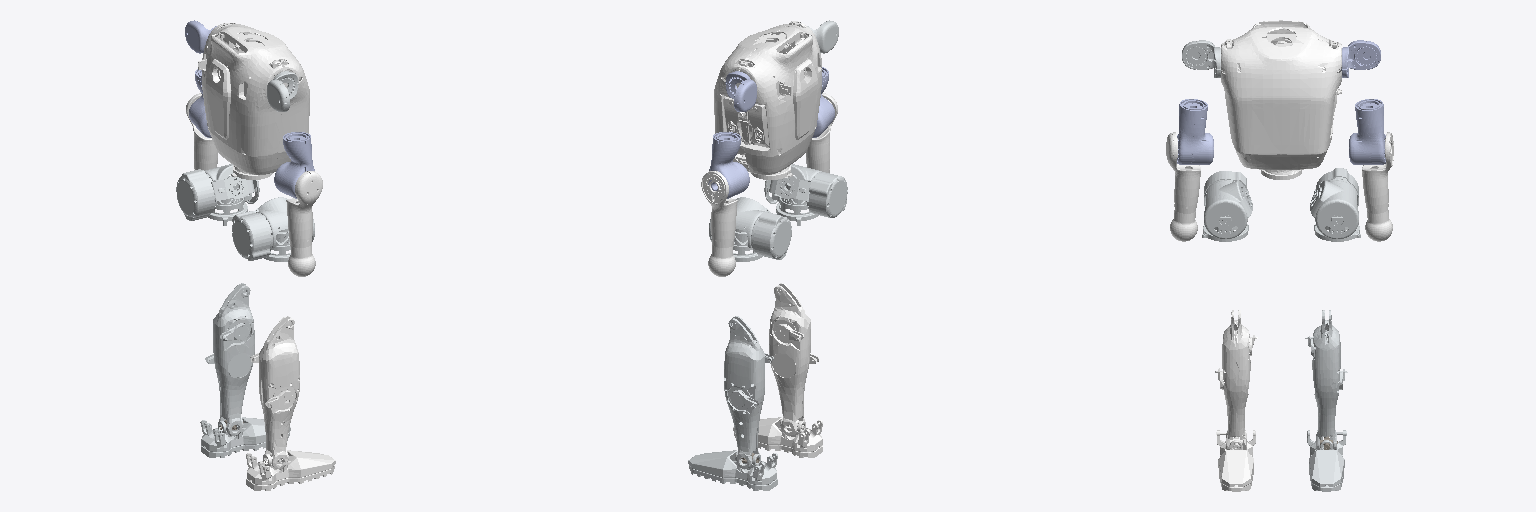
--- Render facts (derived) ---
Views: 3 orthographic renders of the robot side by side, from view 1: azimuth 30°, elevation 25°; view 2: azimuth 150°, elevation 25°; view 3: azimuth 270°, elevation 25°.
Model miniloong_v3 with 23 links and 22 joints (12 revolute, 10 fixed), rooted at base_link, posed all joints at 0.
Links seen in each view (by area): view 1: link_waist_yaw, link_left_knee, link_right_knee, link_left_hip_pitch, link_right_elbow, link_right_hip_pitch, link_right_ankle_roll, link_left_ankle_roll, link_right_shoulder_yaw, link_right_shoulder_pitch, link_left_elbow, link_left_hip_roll (+2 smaller); view 2: link_waist_yaw, link_right_knee, link_left_knee, link_right_hip_pitch, link_left_elbow, link_left_hip_pitch, link_left_ankle_roll, link_right_ankle_roll, link_left_shoulder_yaw, link_left_shoulder_pitch, link_right_elbow, link_right_hip_roll (+2 smaller); view 3: link_waist_yaw, link_right_knee, link_left_knee, link_left_hip_pitch, link_right_hip_pitch, link_right_elbow, link_left_elbow, link_right_shoulder_yaw, link_left_shoulder_yaw, link_left_ankle_roll, link_right_ankle_roll, link_left_shoulder_pitch (+1 smaller).
Boxes of the visible links, box(x1,y1,x2,y2) form: link_waist_yaw: box(198, 23, 309, 179); link_left_knee: box(200, 283, 254, 435); link_right_knee: box(250, 316, 299, 470); link_left_hip_pitch: box(176, 164, 259, 220); link_right_elbow: box(286, 171, 322, 276); link_right_hip_pitch: box(232, 197, 314, 260); link_right_ankle_roll: box(246, 450, 335, 490); link_left_ankle_roll: box(201, 417, 290, 457); link_right_shoulder_yaw: box(274, 132, 314, 198); link_right_shoulder_pitch: box(267, 71, 298, 111); link_left_elbow: box(186, 93, 217, 170); link_left_hip_roll: box(208, 176, 251, 225); link_waist_yaw: box(714, 21, 821, 179); link_right_knee: box(769, 283, 819, 436); link_left_knee: box(724, 316, 773, 471); link_right_hip_pitch: box(764, 164, 847, 217); link_left_elbow: box(701, 171, 737, 276); link_left_hip_pitch: box(709, 197, 791, 259); link_left_ankle_roll: box(688, 450, 777, 490); link_right_ankle_roll: box(733, 417, 822, 457); link_left_shoulder_yaw: box(708, 132, 749, 198); link_left_shoulder_pitch: box(725, 71, 756, 111); link_right_elbow: box(806, 93, 837, 172); link_right_hip_roll: box(772, 176, 818, 225); link_waist_yaw: box(1221, 20, 1341, 179); link_right_knee: box(1215, 310, 1257, 449); link_left_knee: box(1305, 310, 1347, 449); link_left_hip_pitch: box(1310, 168, 1358, 238); link_right_hip_pitch: box(1204, 171, 1252, 238); link_right_elbow: box(1166, 132, 1200, 241); link_left_elbow: box(1362, 132, 1393, 241); link_right_shoulder_yaw: box(1177, 99, 1213, 164); link_left_shoulder_yaw: box(1349, 99, 1385, 164); link_left_ankle_roll: box(1307, 430, 1345, 491); link_right_ankle_roll: box(1217, 430, 1255, 491); link_left_shoulder_pitch: box(1341, 40, 1380, 77).
Size in the robot's own frame: 0.2815 by 0.5742 by 1.2 metres.
17 mesh visuals loaded from 23 distinct referenced files (17 binary STL); not drawn: 6 (reference not matched to a file when rendering).

The robot description file, URDF, robot "miniloong_v3":
<?xml version="1.0" encoding="utf-8"?>
<!--
This URDF was automatically created by SolidWorks to URDF Exporter! Originally created by Stephen Brawner ([email redacted])
Commit Version: 1.6.0-4-g7f85cfe  Build Version: 1.6.7995.38578
For more information, please see http://wiki.ros.org/sw_urdf_exporter
-->
<robot name="miniloong_v3">
	<mujoco>
		<compiler meshdir="../meshes/" balanceinertia="true" discardvisual="false" />
	</mujoco>
	<link name="base_link">
		<inertial>
			<origin xyz="-3.437E-05 -2.2401E-06 -0.003897 " rpy="0 0 0" />
			<mass value="3.7352" />
			<inertia ixx="0.01328" ixy="0" ixz="0.000062" iyy="0.00566" iyz="-0.000001" izz="0.01284" />
		</inertial>
		<visual>
			<origin xyz="0 0 0" rpy="0 0 0" />
			<geometry>
				<mesh filename="../meshes/base_link.STL" />
			</geometry>
			<material name="">
				<color rgba="0.89804 0.91765 0.92941 1" />
			</material>
		</visual>
		<collision>
			<origin xyz="0 0 0" rpy="0 0 0" />
			<geometry>
				<mesh filename="../meshes/base_link.STL" />
			</geometry>
		</collision>
	</link>
	<link name="link_left_hip_pitch">
		<inertial>
			<origin xyz="-0.063459 0.05644 0.0018258" rpy="0 0 0" />
			<mass value="1.2698" />
			<inertia ixx="0.00247" ixy="0.0" ixz="-0.0" iyy="0.00406" iyz="-0.0" izz="0.004332" />
		</inertial>
		<visual>
			<origin xyz="0 0 0" rpy="0 0 0" />
			<geometry>
				<mesh filename="../meshes/link_left_hip_pitch.STL" />
			</geometry>
			<material name="">
				<color rgba="0.89804 0.91765 0.92941 1" />
			</material>
		</visual>
		<!--
		<collision>
		<origin
		xyz="0 0 0"
		rpy="0 0 0" />
		<geometry>
		<mesh
		filename="../meshes/link_left_hip_pitch.STL" />
		</geometry>
		</collision>
		-->
	</link>
	<joint name="joint_left_hip_pitch" type="revolute">
		<origin xyz="0 0.082786 -0.019652" rpy="-0.43633 0 0" />
		<parent link="base_link" />
		<child link="link_left_hip_pitch" />
		<axis xyz="0 -1 0" />
		<limit lower="-0.8" upper="1.57" effort="150" velocity="14" />
	</joint>
	<link name="link_left_hip_roll">
		<inertial>
			<origin xyz="2.5207E-05 -7.5884E-05 -0.019644" rpy="0 0 0" />
			<mass value="1.006" />
			<inertia ixx="0.00109" ixy="-0.00001" ixz="0.000047" iyy="0.00157" iyz="-0.000006" izz="0.00171" />
		</inertial>
		<visual>
			<origin xyz="0 0 0" rpy="0 0 0" />
			<geometry>
				<mesh filename="../meshes/link_left_hip_roll.STL" />
			</geometry>
			<material name="">
				<color rgba="0.89804 0.91765 0.92941 1" />
			</material>
		</visual>
		<!--
		<collision>
		<origin
		xyz="0 0 0"
		rpy="0 0 0" />
		<geometry>
		<mesh
		filename="../meshes/link_left_hip_roll.STL" />
		</geometry>
		</collision>
		-->
	</link>
	<joint name="joint_left_hip_roll" type="revolute">
		<origin xyz="0 0.0639999999999994 0" rpy="0.436332312998587 0 0" />
		<parent link="link_left_hip_pitch" />
		<child link="link_left_hip_roll" />
		<axis xyz="1 0 0" />
		<limit lower="-0.4" upper="1" effort="90" velocity="14" />
	</joint>
	<link name="link_left_hip_yaw">
		<inertial>
			<origin xyz="0.0035034 0.0045942 -0.096361" rpy="0 0 0" />
			<mass value="3.7201" />
			<inertia ixx="0.01809" ixy="0.000339" ixz="0.00079" iyy="0.01648" iyz="-0.00141" izz="0.00797" />
		</inertial>
		<visual>
			<origin xyz="0 0 0" rpy="0 0 0" />
			<geometry>
				<mesh filename="../meshes/link_left_hip_yaw.STL" />
			</geometry>
			<material name="">
				<color rgba="0.89804 0.91765 0.92941 1" />
			</material>
		</visual>
		<!--
		<collision>
		<origin
		xyz="0 0 0"
		rpy="0 0 0" />
		<geometry>
		<mesh
		filename="../meshes/link_left_hip_yaw.STL" />
		</geometry>
		</collision>
		-->
	</link>
	<joint name="joint_left_hip_yaw" type="revolute">
		<origin xyz="0 0 -0.0660749309390388" rpy="0 0 0" />
		<parent link="link_left_hip_roll" />
		<child link="link_left_hip_yaw" />
		<axis xyz="0 0 1" />
		<limit lower="-1.57" upper="1.57" effort="60" velocity="14" />
	</joint>
	<link name="link_left_knee">
		<inertial>
			<origin xyz="0.0085121 0.00056149 -0.1332" rpy="0 0 0" />
			<mass value="2.3671" />
			<inertia ixx="0.01703" ixy="0.000034" ixz="-0.00066" iyy="0.01776" iyz="0.00045" izz="0.00258" />
		</inertial>
		<visual>
			<origin xyz="0 0 0" rpy="0 0 0" />
			<geometry>
				<mesh filename="../meshes/link_left_knee.STL" />
			</geometry>
			<material name="">
				<color rgba="0.89804 0.91765 0.92941 1" />
			</material>
		</visual>
		<collision>
			<origin xyz="0 0 -0.16" rpy="0 0 0" />
			<geometry>
				<cylinder length="0.16" radius="0.01" />
			</geometry>
		</collision>
		<!--
		<collision>
		<origin xyz="0 0 0" rpy="0 0 0" />
		<geometry>
		<mesh filename="../meshes/link_left_knee.STL" />
		</geometry>
		</collision>
		-->
	</link>
	<joint name="joint_left_knee" type="revolute">
		<origin xyz="0 -0.0268000000001518 -0.243925069060961" rpy="0 0 0" />
		<parent link="link_left_hip_yaw" />
		<child link="link_left_knee" />
		<axis xyz="0 1 0" />
		<limit lower="0" upper="1.57" effort="150" velocity="14" />
	</joint>
	<link name="link_left_ankle_pitch">
		<inertial>
			<origin xyz="0.00203587447051995 1.29063426612674E-15 4.35094322320806E-05" rpy="0 0 0" />
			<mass value="0.0977843344446362" />
			<inertia ixx="8.75851893038556E-06" ixy="5.91285137705479E-22" ixz="-4.06882528974468E-21" iyy="1.9407469675906E-05" iyz="2.40417361374459E-18" izz="2.51305174126902E-05" />
		</inertial>
		<visual>
			<origin xyz="0 0 0" rpy="0 0 0" />
			<geometry>
				<mesh filename="../meshes/link_left_ankle_pitch.STL" />
			</geometry>
			<material name="">
				<color rgba="0.647058823529412 0.619607843137255 0.588235294117647 1" />
			</material>
		</visual>
		<!--
		<collision>
		<origin xyz="0 0 0" rpy="0 0 0" />
		<geometry>
		<mesh filename="../meshes/link_left_ankle_pitch.STL" />
		</geometry>
		</collision>
		-->
	</link>
	<joint name="joint_left_ankle_pitch" type="revolute">
		<origin xyz="0 0 -0.340043509432232" rpy="0 0 0" />
		<parent link="link_left_knee" />
		<child link="link_left_ankle_pitch" />
		<axis xyz="0 -1 0" />
		<limit lower="-0.8" upper="0.8" effort="60" velocity="14" />
	</joint>
	<link name="link_left_ankle_roll">
		<inertial>
			<origin xyz="0.0271427859573022 2.90692022023031E-07 -0.0429985338136245" rpy="0 0 0" />
			<mass value="0.666889699700624" />
			<inertia ixx="0.000416460432173352" ixy="1.00005877275381E-08" ixz="0.000163030116358805" iyy="0.00296567474137203" iyz="8.89561374605871E-09" izz="0.00310782867605619" />
		</inertial>
		<visual>
			<origin xyz="0 0 0" rpy="0 0 0" />
			<geometry>
				<mesh filename="../meshes/link_left_ankle_yaw.STL" />
			</geometry>
			<material name="">
				<color rgba="0.898039215686275 0.917647058823529 0.929411764705882 1" />
			</material>
		</visual>
		<!--
		<collision>
		<origin xyz="0 0 0" rpy="0 0 0" />
		<geometry>
		<mesh filename="../meshes/link_left_ankle_yaw.STL" />
		</geometry>
		</collision>
		-->
		<collision>
			<origin rpy="0.00000000 1.5708 0.00000000" xyz="0.0485000 -0.04000000 -0.06300000" />
			<geometry>
				<cylinder radius="0.00500000" length="0.22500000" />
			</geometry>
		</collision>
		<collision>
			<origin rpy="0.00000000 1.5708 0.00000000" xyz="0.0485000 0.04000000 -0.06300000" />
			<geometry>
				<cylinder radius="0.00500000" length="0.22500000" />
			</geometry>
		</collision>
	</link>
	<joint name="joint_left_ankle_roll" type="revolute">
		<origin xyz="0 0 0" rpy="0 0 0" />
		<parent link="link_left_ankle_pitch" />
		<child link="link_left_ankle_roll" />
		<axis xyz="1 0 0" />
		<limit lower="-0.35" upper="0.35" effort="60" velocity="14" />
	</joint>
	<link name="link_right_hip_pitch">
		<!--
		<inertial>
		<origin xyz="-0.063459095964242 -0.0564455458564315 0.00195361727230395" rpy="0 0 0" />
		<mass value="1.2698" />
		<inertia ixx="0.00247" ixy="-0.00063" ixz="-1.6253E-05" iyy="0.00406" iyz="-2.8174E-05" izz="0.00433" />
		</inertial>
		-->
		<inertial>
			<origin xyz="-0.063459 -0.05644 0.0018258" rpy="0 0 0" />
			<mass value="1.2698" />
			<inertia ixx="0.00247" ixy="-0.0" ixz="-0.0" iyy="0.00406" iyz="0.0" izz="0.004332" />
		</inertial>
		<visual>
			<origin xyz="0 0 0" rpy="0 0 0" />
			<geometry>
				<mesh filename="../meshes/link_right_hip_pitch.STL" />
			</geometry>
			<material name="">
				<color rgba="0.898039215686275 0.917647058823529 0.929411764705882 1" />
			</material>
		</visual>
		<!--
		<collision>
		<origin xyz="0 0 0" rpy="0 0 0" />
		<geometry>
		<mesh filename="../meshes/link_right_hip_pitch.STL" />
		</geometry>
		</collision>
		-->
	</link>
	<joint name="joint_right_hip_pitch" type="revolute">
		<origin xyz="0 -0.0827856718722042 -0.0196517491709428" rpy="0.436332312998587 0 0" />
		<parent link="base_link" />
		<child link="link_right_hip_pitch" />
		<axis xyz="0 -1 0" />
		<limit lower="-0.8" upper="1.57" effort="150" velocity="14" />
	</joint>
	<link name="link_right_hip_roll">
		<inertial>
			<origin xyz="2.5207E-05 7.5884E-05 -0.019644" rpy="0 0 0" />
			<mass value="1.006" />
			<inertia ixx="0.00109" ixy="0.00001" ixz="0.000047" iyy="0.00157" iyz="0.000006" izz="0.00171" />
		</inertial>
		<visual>
			<origin xyz="0 0 0" rpy="0 0 0" />
			<geometry>
				<mesh filename="../meshes/link_right_hip_roll.STL" />
			</geometry>
			<material name="">
				<color rgba="0.898039215686275 0.917647058823529 0.929411764705882 1" />
			</material>
		</visual>
		<!--
		<collision>
		<origin xyz="0 0 0" rpy="0 0 0" />
		<geometry>
		<mesh filename="../meshes/link_right_hip_roll.STL" />
		</geometry>
		</collision>
		-->
	</link>
	<joint name="joint_right_hip_roll" type="revolute">
		<origin xyz="0 -0.0639999999999994 0" rpy="-0.436332312998587 0 0" />
		<parent link="link_right_hip_pitch" />
		<child link="link_right_hip_roll" />
		<axis xyz="-1 0 0" />
		<limit lower="-0.4" upper="1" effort="90" velocity="14" />
	</joint>
	<link name="link_right_hip_yaw">
		<inertial>
			<origin xyz="0.0035034 0.0045942 -0.096361" rpy="0 0 0" />
			<mass value="3.7201" />
			<inertia ixx="0.01809" ixy="-0.000339" ixz="0.00079" iyy="0.01648" iyz="0.00141" izz="0.00797" />
		</inertial>
		<visual>
			<origin xyz="0 0 0" rpy="0 0 0" />
			<geometry>
				<mesh filename="../meshes/link_right_hip_yaw.STL" />
			</geometry>
			<material name="">
				<color rgba="1 1 1 1" />
			</material>
		</visual>
		<!--
		<collision>
		<origin xyz="0 0 0" rpy="0 0 0" />
		<geometry>
		<mesh filename="../meshes/link_right_hip_yaw.STL" />
		</geometry>
		</collision>
		-->
	</link>
	<joint name="joint_right_hip_yaw" type="revolute">
		<origin xyz="0 0 -0.0660749309390388" rpy="0 0 0" />
		<parent link="link_right_hip_roll" />
		<child link="link_right_hip_yaw" />
		<axis xyz="0 0 -1" />
		<limit lower="-1.57" upper="1.57" effort="60" velocity="14" />
	</joint>
	<link name="link_right_knee">
		<inertial>
			<origin xyz="0.00711267961483015 -0.00109575254108783 -0.148530745836183" rpy="0 0 0" />
			<mass value="2.3671" />
			<inertia ixx="0.01703" ixy="-0.00003" ixz="-0.00066" iyy="0.01776" iyz="-0.00045" izz="0.00258" />
		</inertial>
		<visual>
			<origin xyz="0 0 0" rpy="0 0 0" />
			<geometry>
				<mesh filename="../meshes/link_right_knee.STL" />
			</geometry>
			<material name="">
				<color rgba="1 1 1 1" />
			</material>
		</visual>
		<collision>
			<origin xyz="0 0 -0.16" rpy="0 0 0" />
			<geometry>
				<cylinder length="0.16" radius="0.01" />
			</geometry>
		</collision>
		<!--
		<collision>
		<origin xyz="0 0 0" rpy="0 0 0" />
		<geometry>
		<mesh filename="../meshes/link_right_knee.STL" />
		</geometry>
		</collision>
		-->
	</link>
	<joint name="joint_right_knee" type="revolute">
		<origin xyz="0 0.0268 -0.24393" rpy="0 0 0" />
		<parent link="link_right_hip_yaw" />
		<child link="link_right_knee" />
		<axis xyz="0 1 0" />
		<limit lower="0" upper="1.57" effort="150" velocity="14" />
	</joint>
	<link name="link_right_ankle_pitch">
		<inertial>
			<origin xyz="0.00203587447051994 -1.52530765795689E-13 4.35094322317475E-05" rpy="0 0 0" />
			<mass value="0.0977843344446362" />
			<inertia ixx="8.75851893038558E-06" ixy="5.04324897607228E-22" ixz="-4.44418073944059E-21" iyy="1.9407469675906E-05" iyz="8.65532772897695E-20" izz="2.51305174126902E-05" />
		</inertial>
		<visual>
			<origin xyz="0 0 0" rpy="0 0 0" />
			<geometry>
				<mesh filename="../meshes/link_right_ankle_pitch.STL" />
			</geometry>
			<material name="">
				<color rgba="1 1 1 1" />
			</material>
		</visual>
		<!--
		<collision>
		<origin xyz="0 0 0" rpy="0 0 0" />
		<geometry>
		<mesh filename="../meshes/link_right_ankle_pitch.STL" />
		</geometry>
		</collision>
		-->
	</link>
	<joint name="joint_right_ankle_pitch" type="revolute">
		<origin xyz="0 0 -0.340043509432231" rpy="0 0 0" />
		<parent link="link_right_knee" />
		<child link="link_right_ankle_pitch" />
		<axis xyz="0 -1 0" />
		<limit lower="-0.8" upper="0.8" effort="60" velocity="14" />
	</joint>
	<link name="link_right_ankle_roll">
		<inertial>
			<origin xyz="0.027143 -3.4145E-07 -0.042999" rpy="0 0 0" />
			<mass value="0.66689" />
			<inertia ixx="0.00041646" ixy="-1.1859E-08" ixz="0.00016303" iyy="0.0029657" iyz="-8.2657E-09" izz="0.0031078" />
		</inertial>
		<visual>
			<origin xyz="0 0 0" rpy="0 0 0" />
			<geometry>
				<mesh filename="../meshes/link_right_ankle_roll.STL" />
			</geometry>
			<material name="">
				<color rgba="1 1 1 1" />
			</material>
		</visual>
		<!--
		<collision>
		<origin xyz="0 0 0" rpy="0 0 0" />
		<geometry>
		<mesh filename="../meshes/link_right_ankle_roll.STL" />
		</geometry>
		</collision>
		-->
		<collision>
			<origin rpy="0.00000000 1.5708 0.00000000" xyz="0.0485000 -0.04000000 -0.06300000" />
			<geometry>
				<cylinder radius="0.00500000" length="0.22500000" />
			</geometry>
		</collision>
		<collision>
			<origin rpy="0.00000000 1.5708 0.00000000" xyz="0.0485000 0.04000000 -0.06300000" />
			<geometry>
				<cylinder radius="0.00500000" length="0.22500000" />
			</geometry>
		</collision>
	</link>
	<joint name="joint_right_ankle_roll" type="revolute">
		<origin xyz="0 0 0" rpy="0 0 0" />
		<parent link="link_right_ankle_pitch" />
		<child link="link_right_ankle_roll" />
		<axis xyz="-1 0 0" />
		<limit lower="-0.35" upper="0.35" effort="60" velocity="14" />
	</joint>
	<link name="link_waist_yaw">
		<inertial>
			<origin xyz="-0.004272 -0.00014838 0.1884" rpy="0 0 0" />
			<!-- <origin xyz="-0.12 -0.00014838 0.1884" rpy="0 0 0" /> -->
			<mass value="13.91387" />
			<inertia ixx="0.18344" ixy="-0.00119" ixz="0.00235" iyy="0.12487" iyz="-0.00013" izz="0.10059" />
		</inertial>
		<visual>
			<origin xyz="0 0 0" rpy="0 0 0" />
			<geometry>
				<mesh filename="../meshes/link_waist_yaw.STL" />
			</geometry>
			<material name="">
				<color rgba="1 1 1 1" />
			</material>
		</visual>
		<!--
		<collision>
		<origin xyz="0 0 0" rpy="0 0 0" />
		<geometry>
		<mesh filename="../meshes/link_waist_yaw.STL" />
		</geometry>
		</collision>
		-->
	</link>
	<joint name="joint_waist_yaw" type="fixed">
		<origin xyz="0 0 0.0565" rpy="0 0 0" />
		<parent link="base_link" />
		<child link="link_waist_yaw" />
		<axis xyz="0 0 1" />
		<limit lower="-2.5" upper="2.5" effort="40" velocity="14" />
	</joint>
	<link name="link_head_yaw">
		<inertial>
			<origin xyz="0.0061983 -0.00018871 0.10871" rpy="0 0 0" />
			<mass value="2.27240 " />
			<inertia ixx="0.00816" ixy="-3.4898E-06" ixz="-0.00063" iyy="0.00837" iyz="-0.00002" izz="0.00534" />
		</inertial>
		<visual>
			<origin xyz="0 0 0" rpy="0 0 0" />
			<geometry>
				<mesh filename="../meshes/link_head_yaw.STL" />
			</geometry>
			<material name="">
				<color rgba="0.75294 0.75294 0.75294 1" />
			</material>
		</visual>
		<!--
		<collision>
		<origin xyz="0 0 0" rpy="0 0 0" />
		<geometry>
		<mesh filename="../meshes/link_head_yaw.STL" />
		</geometry>
		</collision>
		-->
	</link>
	<joint name="joint_head_yaw" type="fixed">
		<origin xyz="0 0 0.3615" rpy="0 0 0" />
		<parent link="link_waist_yaw" />
		<child link="link_head_yaw" />
		<axis xyz="0 0 1" />
		<limit lower="-2.5" upper="2.5" effort="40" velocity="14" />
	</joint>
	<link name="link_left_shoulder_pitch">
		<inertial>
			<origin xyz="-0.0210939607616073 0.0241260676418119 8.25829308818693E-05" rpy="0 0 0" />
			<mass value="0.27482 " />
			<inertia ixx="0.00035" ixy="0.00013" ixz="-2.34594217783331E-07" iyy="0.00033" iyz="2.62935448501759E-07" izz="0.00040" />
		</inertial>
		<visual>
			<origin xyz="0 0 0" rpy="0 0 0" />
			<geometry>
				<mesh filename="../meshes/link_left_shoulder_pitch.STL" />
			</geometry>
			<material name="">
				<color rgba="0.792156862745098 0.819607843137255 0.933333333333333 1" />
			</material>
		</visual>
		<!--
		<collision>
		<origin xyz="0 0 0" rpy="0 0 0" />
		<geometry>
		<mesh filename="../meshes/link_left_shoulder_pitch.STL" />
		</geometry>
		</collision>
		-->
	</link>
	<joint name="joint_left_shoulder_pitch" type="fixed">
		<origin xyz="0 0.155499975207358 0.3025" rpy="0 0 0" />
		<parent link="link_waist_yaw" />
		<child link="link_left_shoulder_pitch" />
		<axis xyz="0 -1 0" />
		<limit lower="-3.14" upper="3.14" effort="10" velocity="14" />
	</joint>
	<link name="link_left_shoulder_roll">
		<inertial>
			<origin xyz="0.000167218328205393 0.0354818809463666 -6.43762885221832E-08" rpy="0 0 0" />
			<mass value="1.39489614213911" />
			<inertia ixx="0.00358" ixy="-0.000002" ixz="-4.74084829888112E-09" iyy="0.00087" iyz="-1.03984594164589E-09" izz="0.00347" />
		</inertial>
		<visual>
			<origin xyz="0 0 0" rpy="0 0 0" />
			<geometry>
				<mesh filename="../meshes/link_left_shoulder_roll.STL" />
			</geometry>
			<material name="">
				<color rgba="0.792156862745098 0.819607843137255 0.933333333333333 1" />
			</material>
		</visual>
		<!--
		<collision>
		<origin xyz="0 0 0" rpy="0 0 0" />
		<geometry>
		<mesh filename="../meshes/link_left_shoulder_roll.STL" />
		</geometry>
		</collision>
		-->
	</link>
	<joint name="joint_left_shoulder_roll" type="fixed">
		<origin xyz="0 0.0595000000000024 0" rpy="-1.5 0 0" />
		<parent link="link_left_shoulder_pitch" />
		<child link="link_left_shoulder_roll" />
		<axis xyz="1 0 0" />
		<limit lower="-3.14" upper="3.14" effort="10" velocity="14" />
	</joint>
	<link name="link_left_shoulder_yaw">
		<inertial>
			<origin xyz="7.16030292427931E-05 0.100209157986346 0.000676367053530913" rpy="0 0 0" />
			<mass value="1.00308" />
			<inertia ixx="0.004842" ixy="-0.000056" ixz="0.000008" iyy="0.000702" iyz="0.000033" izz="0.004749" />
		</inertial>
		<visual>
			<origin xyz="0 0 0" rpy="0 0 0" />
			<geometry>
				<mesh filename="../meshes/link_left_shoulder_yaw.STL" />
			</geometry>
			<material name="">
				<color rgba="0.792156862745098 0.819607843137255 0.933333333333333 1" />
			</material>
		</visual>
		<!--
		<collision>
		<origin xyz="0 0 0" rpy="0 0 0" />
		<geometry>
		<mesh filename="../meshes/link_left_shoulder_yaw.STL" />
		</geometry>
		</collision>
		-->
	</link>
	<joint name="joint_left_shoulder_yaw" type="fixed">
		<origin xyz="0 0.12337 0" rpy="0 1.7 0" />
		<parent link="link_left_shoulder_roll" />
		<child link="link_left_shoulder_yaw" />
		<axis xyz="0 0 1" />
		<limit lower="-3.14" upper="3.14" effort="10" velocity="14" />
	</joint>
	<link name="link_left_elbow">
		<inertial>
			<origin xyz="-0.00481265435533542 0.128865038823095 4.58706437079237E-05" rpy="0 0 0" />
			<mass value="0.78794" />
			<inertia ixx="0.00473" ixy="-0.00069" ixz="-6.24928795495613E-07" iyy="0.00070" iyz="1.09977340809503E-08" izz="0.00487" />
		</inertial>
		<visual>
			<origin xyz="0 0 0" rpy="0 0 0" />
			<geometry>
				<mesh filename="../meshes/link_left_elbow.STL" />
			</geometry>
			<material name="">
				<color rgba="1 1 1 1" />
			</material>
		</visual>
		<!--
		<collision>
		<origin xyz="0 0 0" rpy="0 0 0" />
		<geometry>
		<mesh filename="../meshes/link_left_elbow.STL" />
		</geometry>
		</collision>
		-->
	</link>
	<joint name="joint_left_elbow" type="fixed">
		<origin xyz="0 0.116764648961339 0" rpy="0.001 0 0" />
		<parent link="link_left_shoulder_yaw" />
		<child link="link_left_elbow" />
		<axis xyz="-1 0 0" />
		<limit lower="-3.14" upper="3.14" effort="10" velocity="14" />
	</joint>
	<link name="link_right_shoulder_pitch">
		<inertial>
			<origin xyz="-0.0210974567110592 -0.0241256715710195 8.67611098308019E-05" rpy="0 0 0" />
			<mass value="0.27482" />
			<inertia ixx="0.00035" ixy="-0.00013" ixz="-2.34594217783331E-07" iyy="0.00033" iyz="2.62935448501759E-07" izz="0.00040" />
		</inertial>
		<visual>
			<origin xyz="0 0 0" rpy="0 0 0" />
			<geometry>
				<mesh filename="../meshes/link_right_shoulder_pitch.STL" />
			</geometry>
			<material name="">
				<color rgba="0.898039215686275 0.917647058823529 0.929411764705882 1" />
			</material>
		</visual>
		<!--
		<collision>
		<origin xyz="0 0 0" rpy="0 0 0" />
		<geometry>
		<mesh filename="../meshes/link_right_shoulder_pitch.STL" />
		</geometry>
		</collision>
		-->
	</link>
	<joint name="joint_right_shoulder_pitch" type="fixed">
		<origin xyz="0 -0.155499975207358 0.3025" rpy="0 0 0" />
		<parent link="link_waist_yaw" />
		<child link="link_right_shoulder_pitch" />
		<axis xyz="0 -1 0" />
		<limit lower="-3.14" upper="3.14" effort="10" velocity="14" />
	</joint>
	<link name="link_right_shoulder_roll">
		<inertial>
			<origin xyz="-0.000843122215089775 -0.0399406505926827 -7.69838556569091E-07" rpy="0 0 0" />
			<mass value="1.39408" />
			<inertia ixx="0.00358" ixy="0.000002" ixz="-8.94066677516295E-09" iyy="0.00087" iyz="-1.42676101576193E-08" izz="0.00347" />
		</inertial>
		<visual>
			<origin xyz="0 0 0" rpy="0 0 0" />
			<geometry>
				<mesh filename="../meshes/link_right_shoulder_roll.STL" />
			</geometry>
			<material name="">
				<color rgba="0.792156862745098 0.819607843137255 0.933333333333333 1" />
			</material>
		</visual>
		<!--
		<collision>
		<origin xyz="0 0 0" rpy="0 0 0" />
		<geometry>
		<mesh filename="../meshes/link_right_shoulder_roll.STL" />
		</geometry>
		</collision>
		-->
	</link>
	<joint name="joint_right_shoulder_roll" type="fixed">
		<origin xyz="0 -0.0595 0" rpy="1.5 0 0" />
		<parent link="link_right_shoulder_pitch" />
		<child link="link_right_shoulder_roll" />
		<axis xyz="-1 0 0" />
		<limit lower="-3.14" upper="3.14" effort="10" velocity="14" />
	</joint>
	<link name="link_right_shoulder_yaw">
		<inertial>
			<origin xyz="-0.000476212054678059 -0.0789895136293 0.00154596147273028" rpy="0 0 0" />
			<mass value="1.00308 " />
			<inertia ixx="0.00212" ixy="0.00003" ixz="0.000008" iyy="0.00067" iyz="-0.00002" izz="0.00203" />
		</inertial>
		<visual>
			<origin xyz="0 0 0" rpy="0 0 0" />
			<geometry>
				<mesh filename="../meshes/link_right_shoulder_yaw.STL" />
			</geometry>
			<material name="">
				<color rgba="0.792156862745098 0.819607843137255 0.933333333333333 1" />
			</material>
		</visual>
		<!--
		<collision>
		<origin xyz="0 0 0" rpy="0 0 0" />
		<geometry>
		<mesh filename="../meshes/link_right_shoulder_yaw.STL" />
		</geometry>
		</collision>
		-->
	</link>
	<joint name="joint_right_shoulder_yaw" type="fixed">
		<origin xyz="0 -0.123369566533709 0" rpy="0 1.7 0" />
		<parent link="link_right_shoulder_roll" />
		<child link="link_right_shoulder_yaw" />
		<axis xyz="0 0 -1" />
		<limit lower="-3.14" upper="3.14" effort="10" velocity="14" />
	</joint>
	<link name="link_right_elbow">
		<inertial>
			<origin xyz="-0.00587043983846815 -0.125968993114132 5.03840326848692E-05" rpy="0 0 0" />
			<mass value="0.78794" />
			<inertia ixx="0.00473" ixy="0.00069" ixz="-6.16175967774978E-07" iyy="0.00070" iyz="-3.20665803567809E-08" izz="0.00487" />
		</inertial>
		<visual>
			<origin xyz="0 0 0" rpy="0 0 0" />
			<geometry>
				<mesh filename="../meshes/link_right_elbow.STL" />
			</geometry>
			<material name="">
				<color rgba="1 1 1 1" />
			</material>
		</visual>
		<!--
		<collision>
		<origin xyz="0 0 0" rpy="0 0 0" />
		<geometry>
		<mesh filename="../meshes/link_right_elbow.STL" />
		</geometry>
		</collision>
		-->
	</link>
	<joint name="joint_right_elbow" type="fixed">
		<origin xyz="0 -0.116764648961339 0" rpy="-0.001 0 0" />
		<parent link="link_right_shoulder_yaw" />
		<child link="link_right_elbow" />
		<axis xyz="1 0 0" />
		<limit lower="-3.14" upper="3.14" effort="10" velocity="14" />
	</joint>
</robot>
